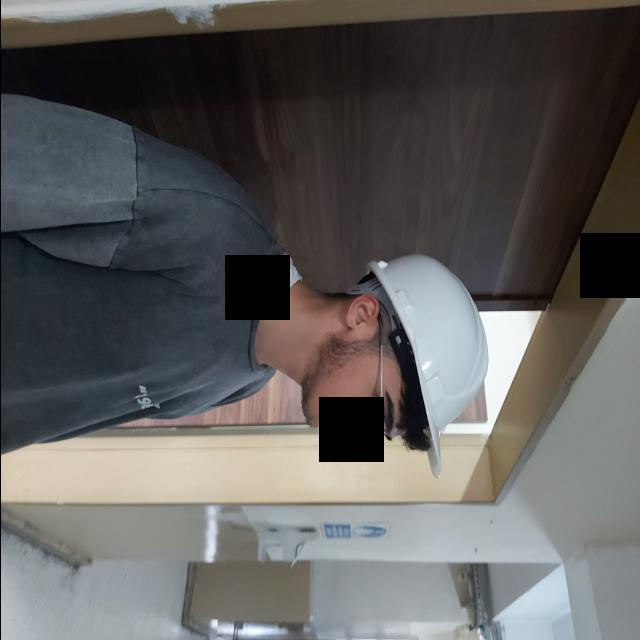helmet: (350, 252, 489, 478)
